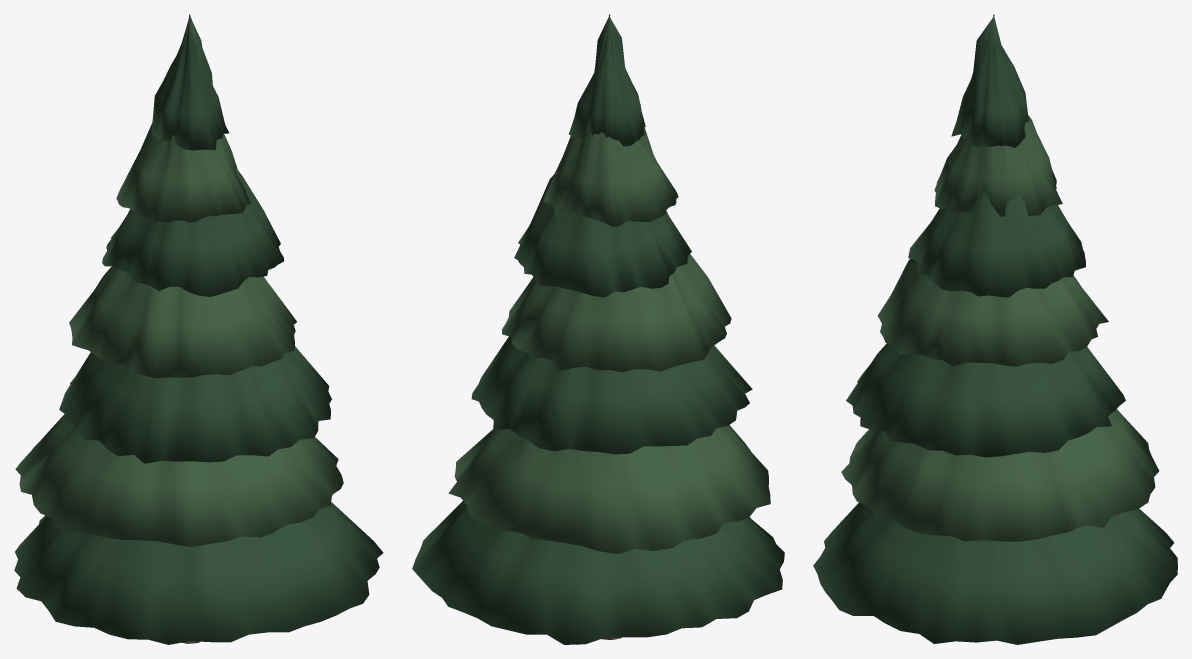
The model's file is detail_pine.glb.
The picture shows the model from 3 angles, left to right: view 1: azimuth 30°, elevation 25°; view 2: azimuth 150°, elevation 25°; view 3: azimuth 270°, elevation 25°; orthographic projection.
Visible parts, largest first — view 1: Cone.001, Cone.002, Cone.003, Cone.004, Cone.005, Cone.006, Cone.007; view 2: Cone.001, Cone.002, Cone.003, Cone.004, Cone.005, Cone.006, Cone.007; view 3: Cone.001, Cone.002, Cone.003, Cone.004, Cone.005, Cone.006, Cone.007.
Boxes of the visible parts, bbox=[...] form: Cone.001: bbox=[14, 502, 383, 644]; Cone.002: bbox=[15, 414, 343, 546]; Cone.003: bbox=[59, 346, 331, 463]; Cone.004: bbox=[69, 266, 296, 377]; Cone.005: bbox=[102, 167, 284, 296]; Cone.006: bbox=[116, 123, 250, 222]; Cone.007: bbox=[151, 14, 229, 150]; Cone.001: bbox=[412, 501, 784, 644]; Cone.002: bbox=[448, 425, 770, 554]; Cone.003: bbox=[471, 336, 752, 454]; Cone.004: bbox=[502, 254, 731, 372]; Cone.005: bbox=[514, 173, 691, 297]; Cone.006: bbox=[543, 125, 678, 226]; Cone.007: bbox=[568, 14, 645, 146]; Cone.001: bbox=[813, 502, 1177, 644]; Cone.002: bbox=[841, 409, 1159, 541]; Cone.003: bbox=[846, 343, 1125, 457]; Cone.004: bbox=[877, 259, 1108, 366]; Cone.005: bbox=[908, 191, 1085, 297]; Cone.006: bbox=[934, 115, 1062, 216]; Cone.007: bbox=[951, 14, 1028, 147].
Size of the model in its own units: 5.39 by 9.93 by 5.33.
Materials: 3 (1 with a texture image).
